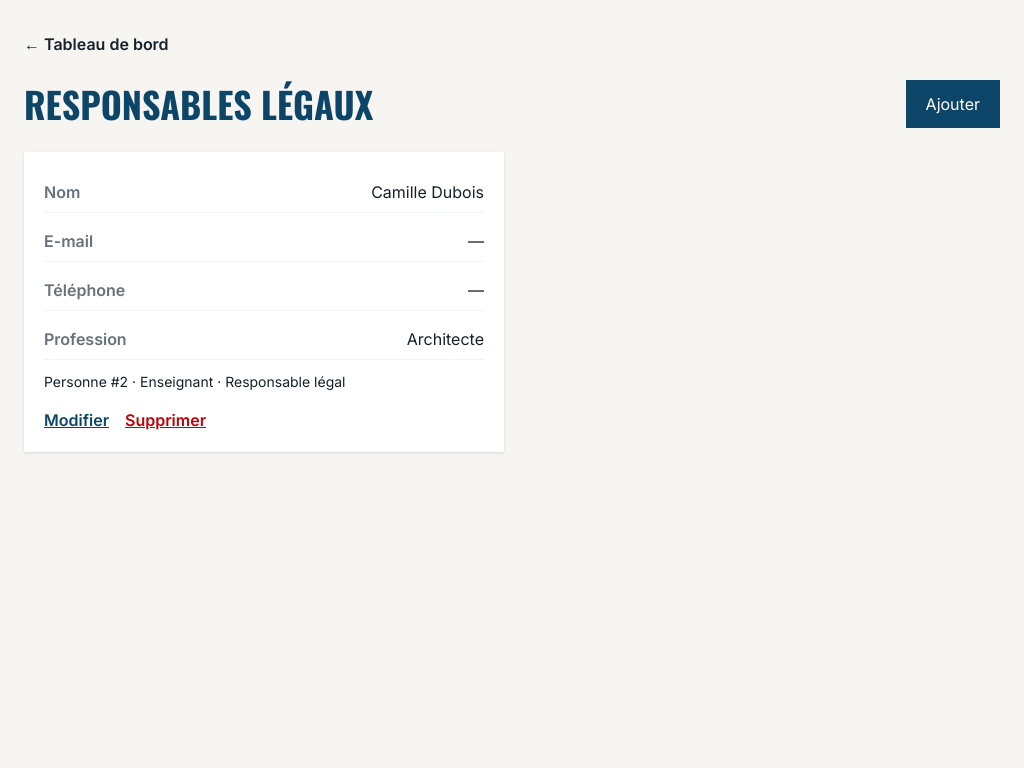
Test case: rattache explicitement un responsable à un enseignant sans transmettre de coordonnées
This screenshot has width=1024, height=768.
Click the button "Ajouter". click: [953, 104]
box: [906,80,1000,128]
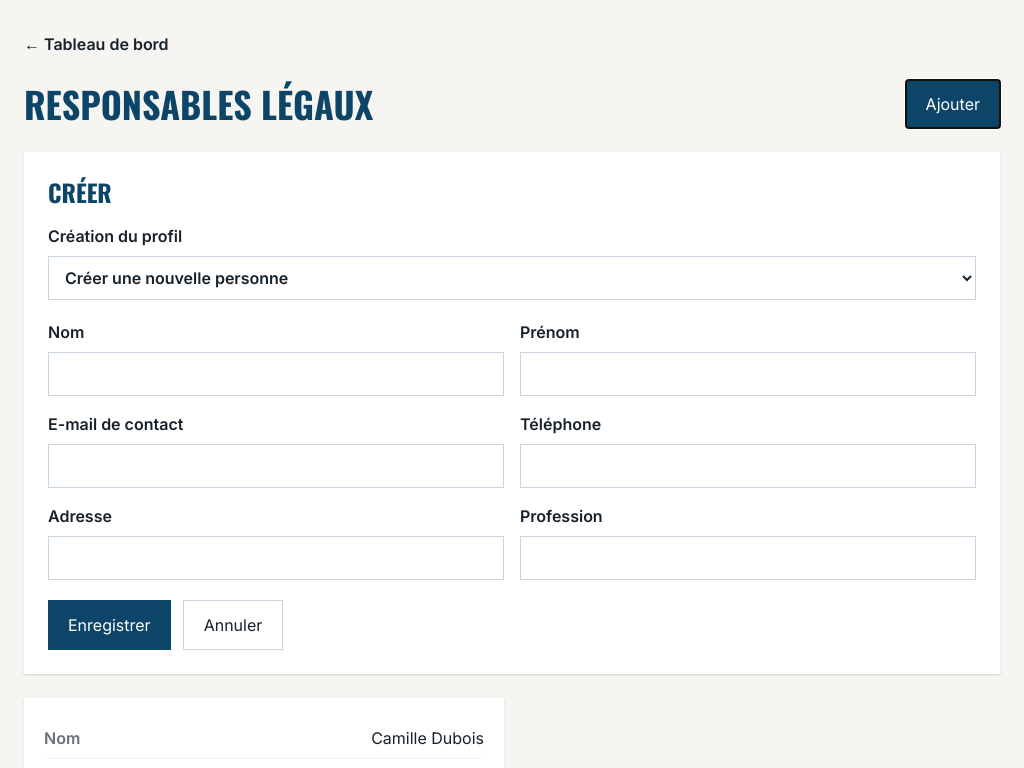
Select "Rattacher à une personne existante" in the dropdown labelled "Création du profil". click: [512, 278]
box: [48,256,976,300]
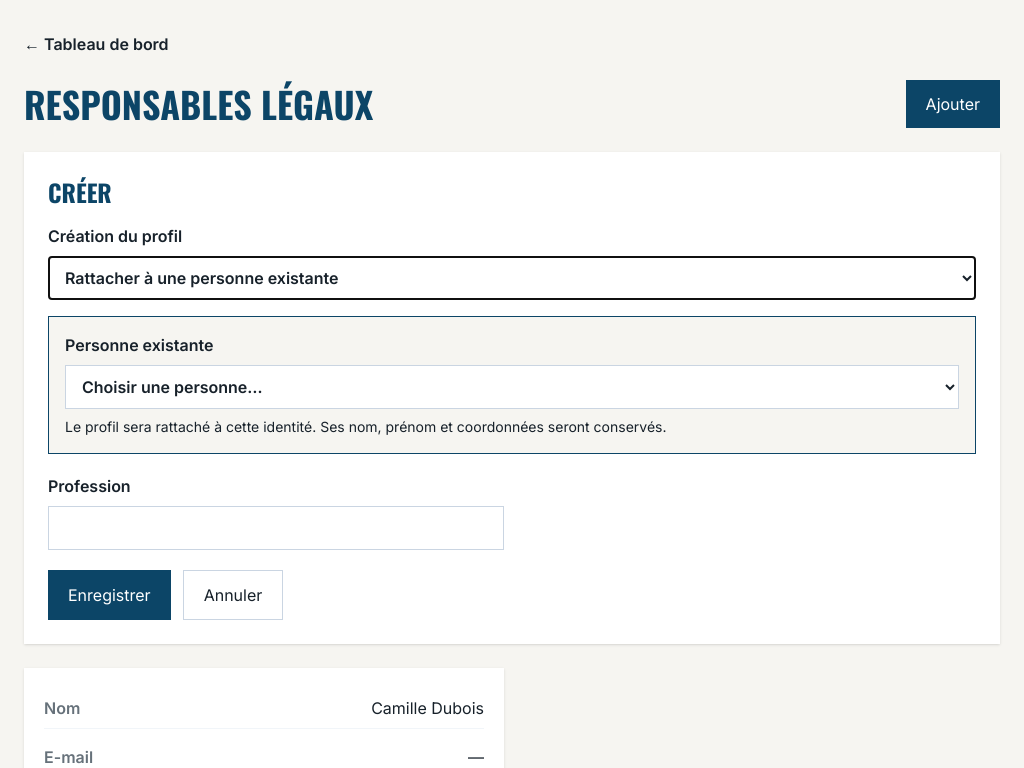
Select "Alex Martin · #1 · Enseignant · alex@example.test" in the dropdown labelled "Personne existante". click: [512, 387]
box: [65,365,959,409]
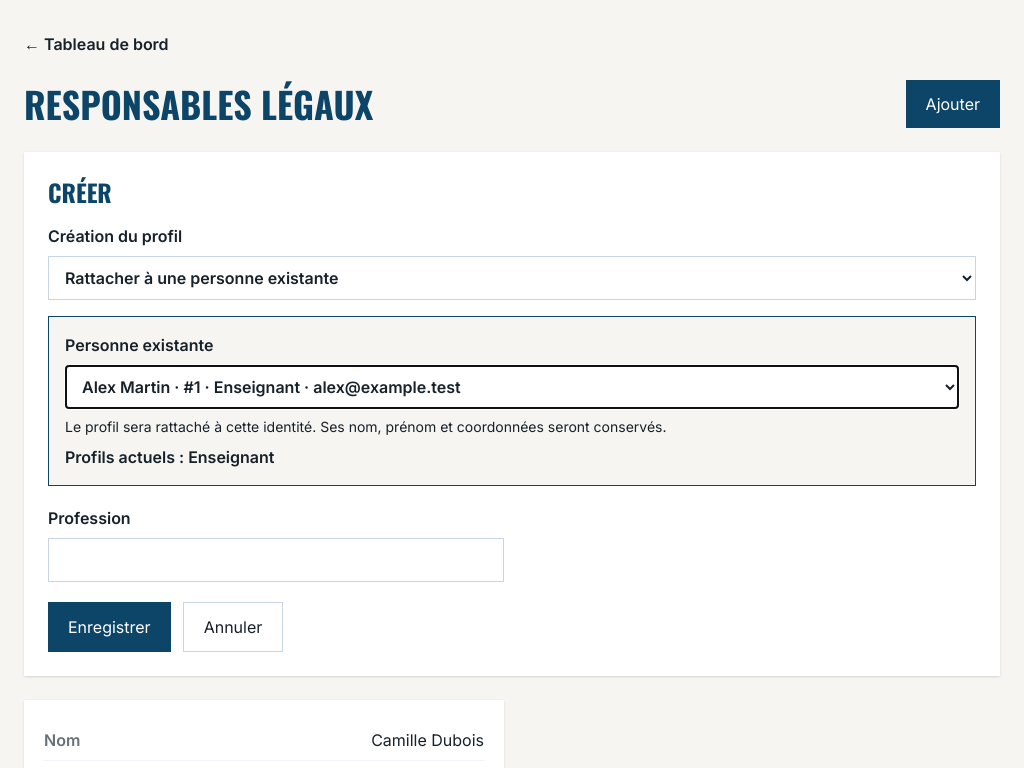
Expected: the text "Profils actuels : Enseignant" is shown, [65,447,274,467]
Type "Médecin" into the field labelled "Profession". click: [276, 560]
box: [48,538,504,582]
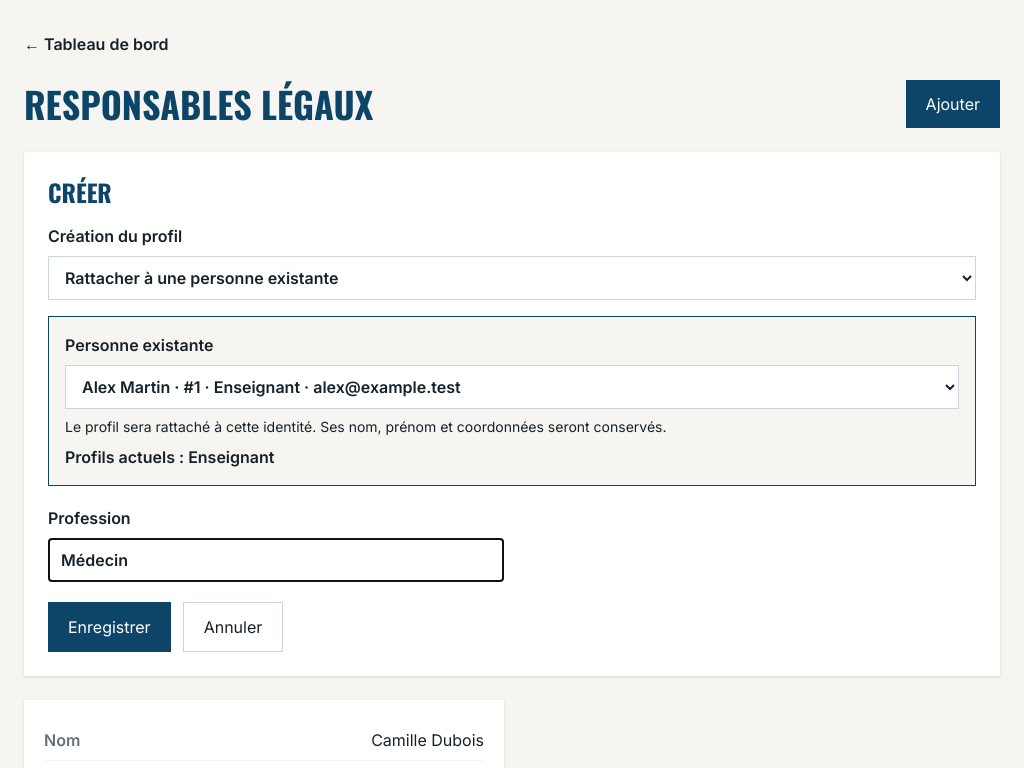
Click the button "Enregistrer". click: [109, 627]
box: [48,602,171,652]
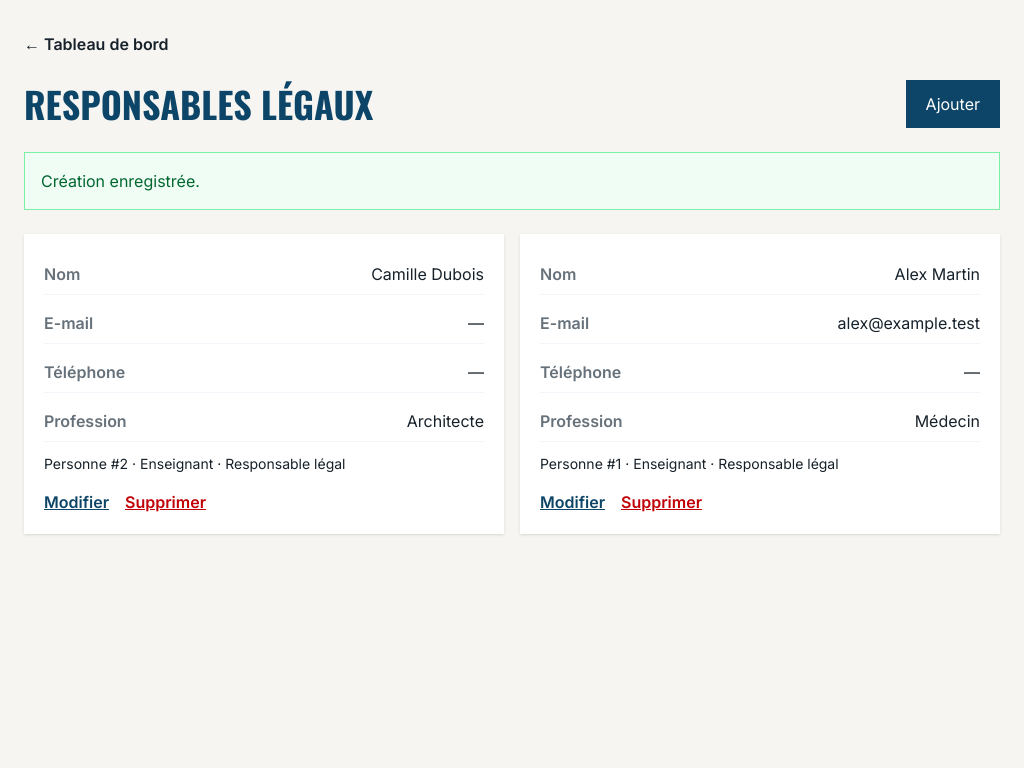
Expected: the text "Personne #1 · Enseignant · Responsable légal" is shown, [540,455,839,472]
